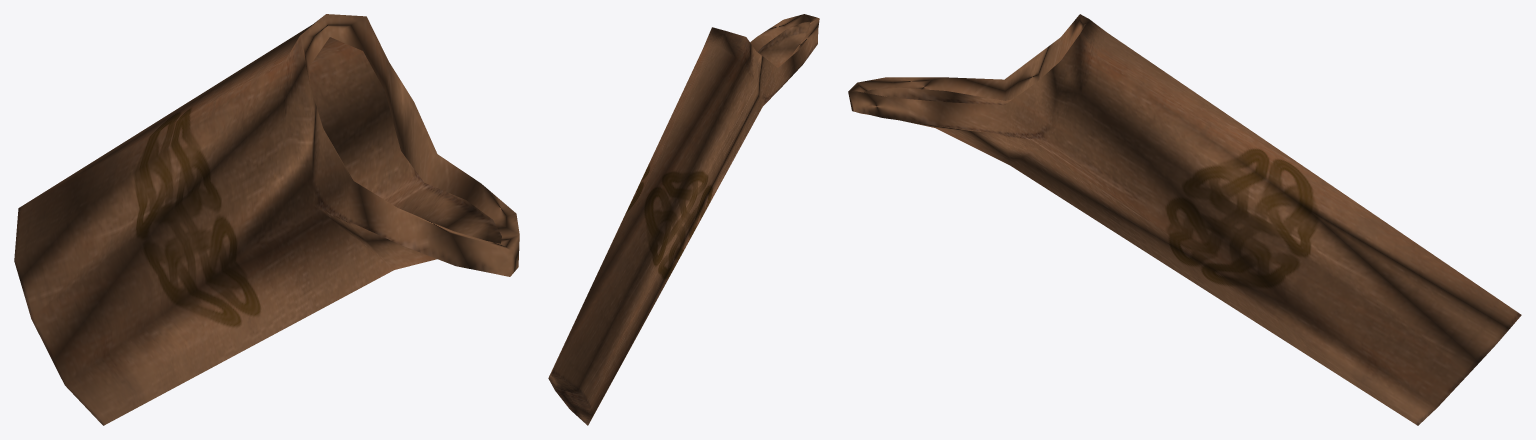
Rendered from shakoor_sword_cover.fbx.
3 renders of one model, left to right at view 1: azimuth 30°, elevation 25°; view 2: azimuth 150°, elevation 25°; view 3: azimuth 270°, elevation 25°, orthographic. The views are drawn at different scales.
Parts seen in each view (by area): view 1: sword_cover; view 2: sword_cover; view 3: sword_cover.
Boxes of the visible parts, x1=… form: sword_cover: x1=14, y1=14, x2=519, y2=425; sword_cover: x1=548, y1=14, x2=819, y2=425; sword_cover: x1=848, y1=14, x2=1521, y2=425.
Bounding box in the file's own units: 2.68 × 14.45 × 22.09.
